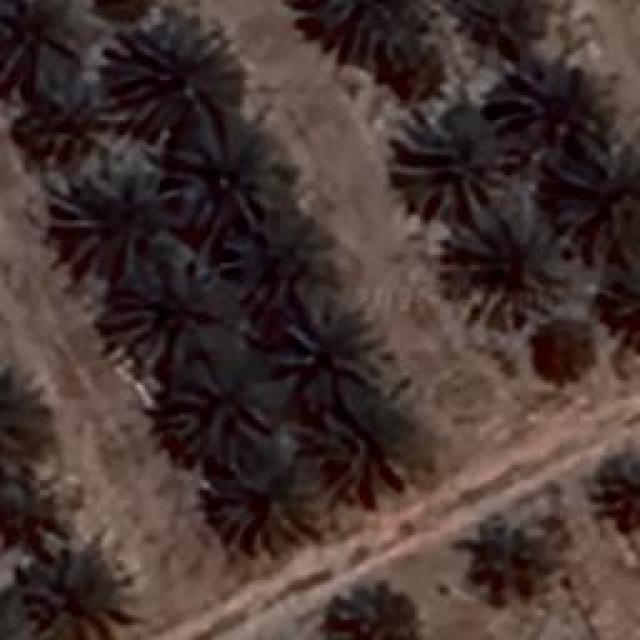PalmTree: (48, 80, 616, 299), (91, 23, 499, 80), (100, 240, 235, 365), (440, 200, 572, 325), (100, 18, 242, 132), (390, 102, 520, 216), (207, 435, 325, 555), (170, 115, 282, 227), (310, 394, 415, 508), (280, 302, 390, 408), (6, 538, 109, 632), (48, 162, 156, 245), (166, 365, 276, 445), (471, 506, 554, 612), (240, 234, 332, 316), (558, 140, 638, 232), (318, 0, 426, 65), (7, 6, 95, 84), (37, 94, 125, 166), (324, 580, 418, 640), (524, 75, 604, 145), (0, 374, 55, 458), (592, 436, 640, 529)
